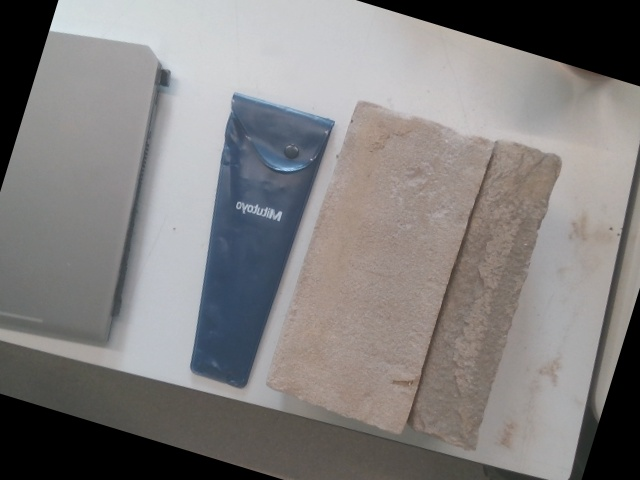brick: (264, 105, 494, 427)
